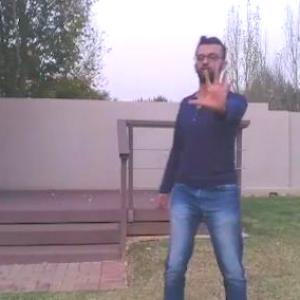follow_hand: (189, 61, 241, 110)
